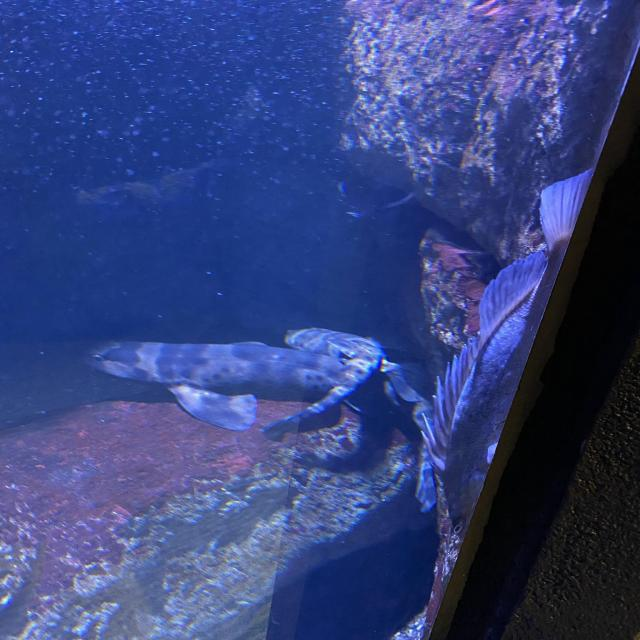fish: (423, 171, 597, 528)
shark: (79, 342, 383, 438), (284, 328, 438, 512)
